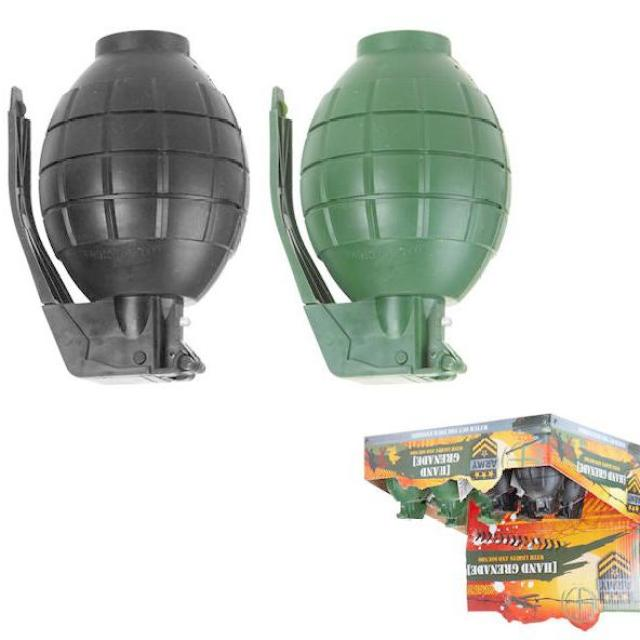grenade: (274, 31, 513, 382), (16, 31, 252, 382)
